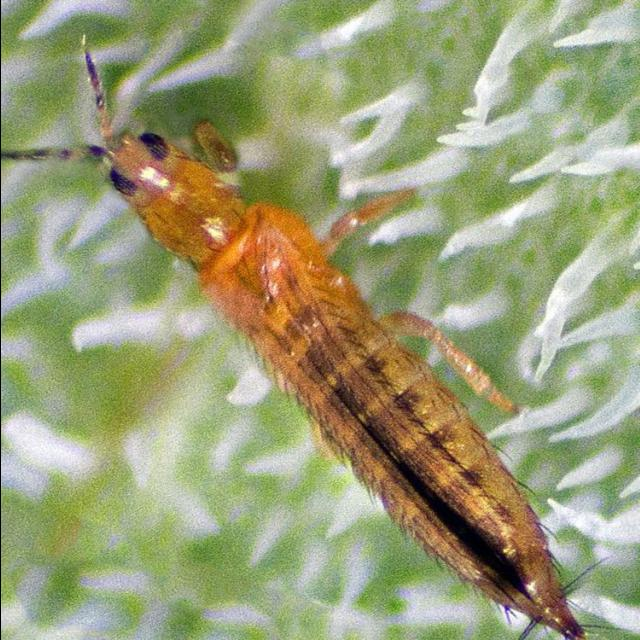thrip: (6, 28, 610, 640)
